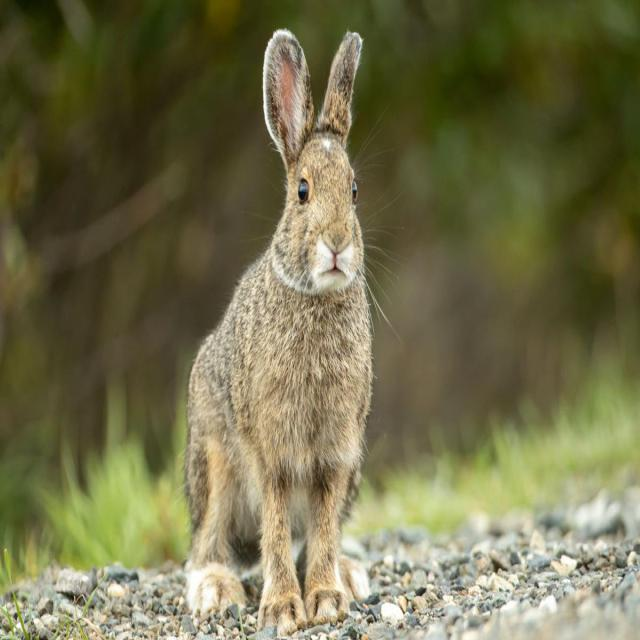Hare: (180, 19, 380, 634)
